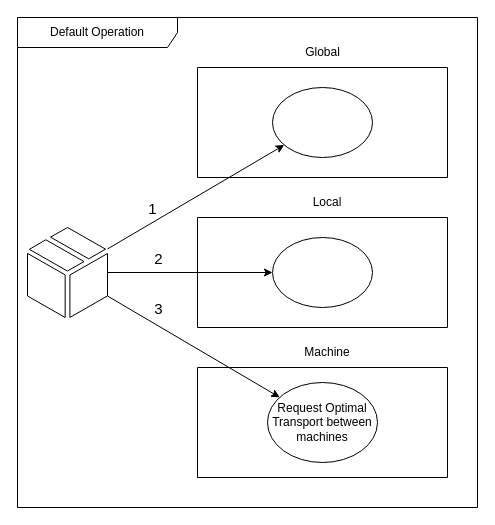
The diagram is 495 pixels wide and 525 high, and some of its shapes have lost their labels. Here are the shapes that lost their labels. From the top down, the centre of each, then its label:
the point at 322,122: Request Optimal Route
the point at 322,272: Request Optimal Transport to Gate
